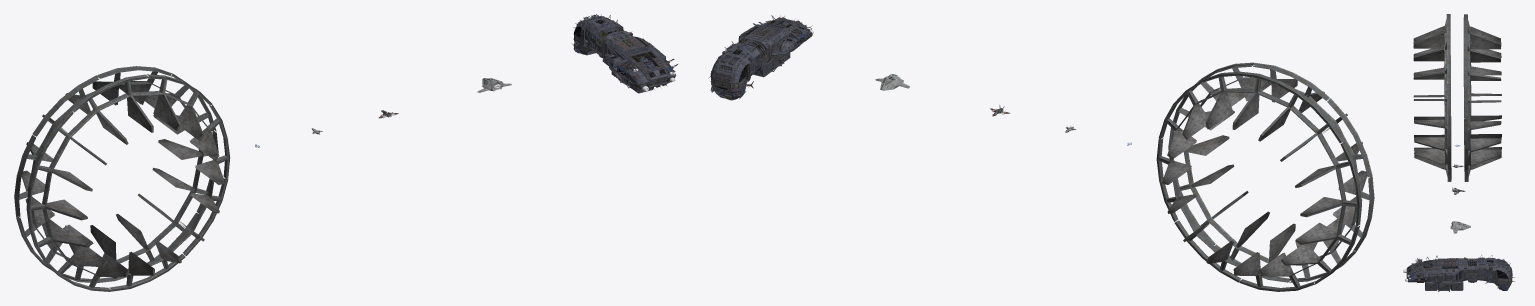
The model's file is ship_stack.glb.
3 views of the same model, side by side, from view 1: azimuth 30°, elevation 25°; view 2: azimuth 150°, elevation 25°; view 3: azimuth 270°, elevation 25° (orthographic). The views are drawn at different scales.
Visible parts, largest first — view 1: gate, ship_freighter; view 2: gate, ship_freighter; view 3: gate, ship_freighter, ship_Verta_Stealth.
Boxes of the visible parts, bbox=[...] form: gate: bbox=[14, 66, 230, 291]; ship_freighter: bbox=[571, 14, 677, 93]; gate: bbox=[1156, 62, 1374, 291]; ship_freighter: bbox=[709, 15, 812, 100]; gate: bbox=[1413, 14, 1501, 181]; ship_freighter: bbox=[1406, 254, 1514, 291]; ship_Verta_Stealth: bbox=[1450, 221, 1470, 233].
Bounding box in the file's own units: 214 × 68.48 × 47.86.
Materials: 14 (7 with a texture image).
